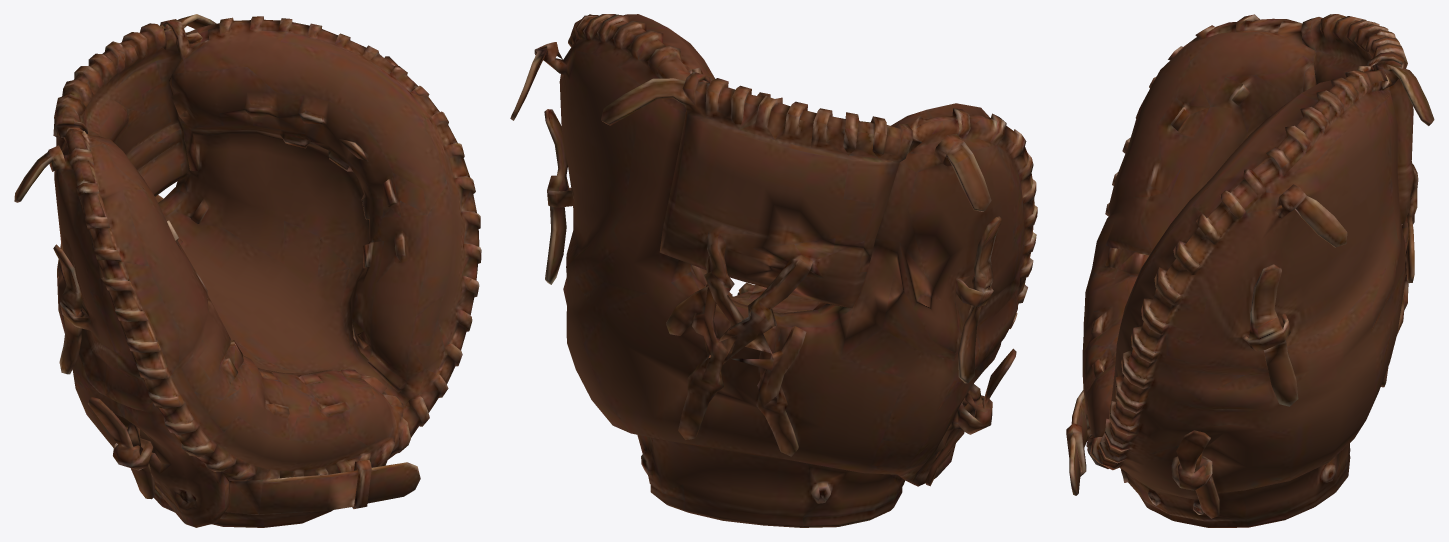
Rendered from mitt.glb.
3 renders of one model, left to right at view 1: azimuth 30°, elevation 25°; view 2: azimuth 150°, elevation 25°; view 3: azimuth 270°, elevation 25°, orthographic. The views are drawn at different scales.
Visible parts, largest first — view 1: tripo_node_1bfd8374-40ef-49f1-9e19-1216a840d486; view 2: tripo_node_1bfd8374-40ef-49f1-9e19-1216a840d486; view 3: tripo_node_1bfd8374-40ef-49f1-9e19-1216a840d486.
Boxes of the visible parts, x1,y1,x2,y2 form: tripo_node_1bfd8374-40ef-49f1-9e19-1216a840d486: (14,14,481,527); tripo_node_1bfd8374-40ef-49f1-9e19-1216a840d486: (510,14,1037,527); tripo_node_1bfd8374-40ef-49f1-9e19-1216a840d486: (1066,14,1434,527).
Bounding box in the file's own units: 0.9706 × 0.9783 × 0.7447.
1 material, 1 textured.
